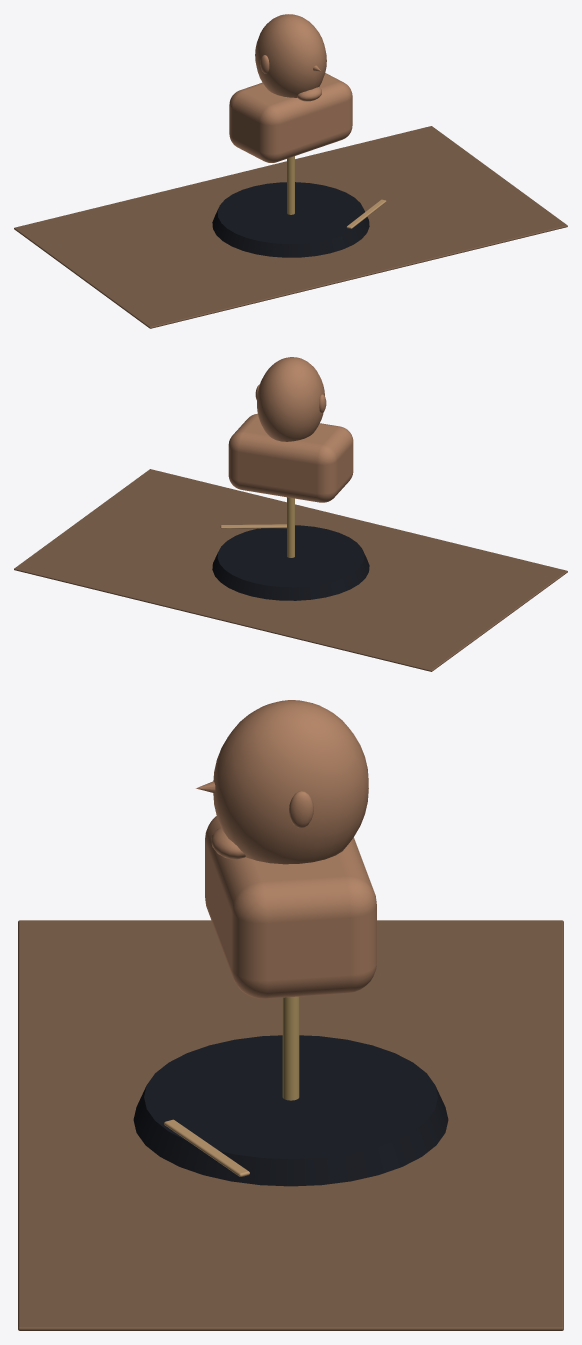
The model's file is atelier-artist-set-sculpture-oak.glb.
3 renders of one model, top to bottom at view 1: azimuth 30°, elevation 25°; view 2: azimuth 150°, elevation 25°; view 3: azimuth 270°, elevation 25°, orthographic. The views are drawn at different scales.
Size of the model in its own units: 0.92 by 0.4443 by 0.52.
